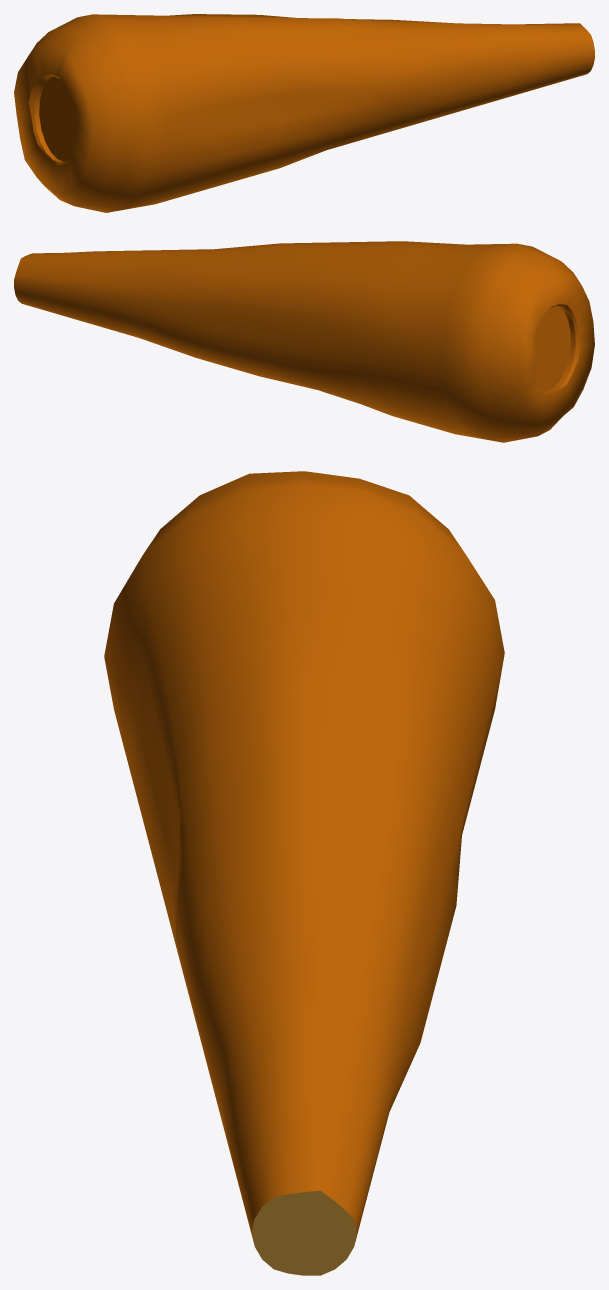
Rendered from mesh_Carrot_Stage03.fbx.
3 views of the same model, one above another, from view 1: azimuth 30°, elevation 25°; view 2: azimuth 150°, elevation 25°; view 3: azimuth 270°, elevation 25° (orthographic). The views are drawn at different scales.
Parts seen in each view (by area): view 1: mesh_Carrot_Stage03; view 2: mesh_Carrot_Stage03; view 3: mesh_Carrot_Stage03.
Boxes of the visible parts, box(x1,y1,x2,y2) form: mesh_Carrot_Stage03: box(14, 14, 594, 212); mesh_Carrot_Stage03: box(14, 241, 594, 442); mesh_Carrot_Stage03: box(104, 471, 504, 1275).
Size of the model in its own units: 0.158 by 0.0519 by 0.051.
